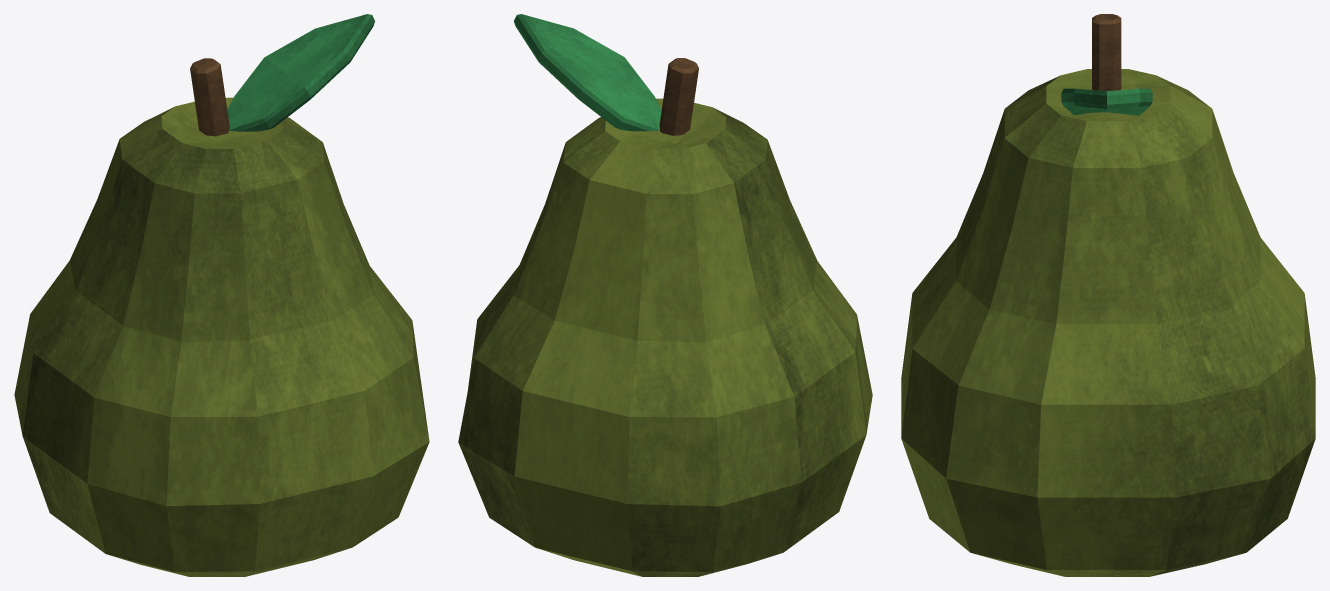
File: Pear.fbx
The picture shows the model from 3 angles, left to right: view 1: azimuth 30°, elevation 25°; view 2: azimuth 150°, elevation 25°; view 3: azimuth 270°, elevation 25°; orthographic projection. The views are drawn at different scales.
Parts seen in each view (by area): view 1: Pera, Fulla, Palo; view 2: Pera, Fulla, Palo; view 3: Pera, Palo, Fulla.
Boxes of the visible parts, x1=… form: Pera: x1=14, y1=97, x2=429, y2=576; Fulla: x1=227, y1=14, x2=374, y2=131; Palo: x1=190, y1=58, x2=229, y2=136; Pera: x1=458, y1=98, x2=872, y2=576; Fulla: x1=514, y1=14, x2=661, y2=131; Palo: x1=659, y1=58, x2=698, y2=135; Pera: x1=901, y1=69, x2=1315, y2=576; Palo: x1=1092, y1=14, x2=1121, y2=90; Fulla: x1=1061, y1=88, x2=1152, y2=115.
Bounding box in the file's own units: 85.46 × 122 × 85.62.
3 materials, 3 textured.
